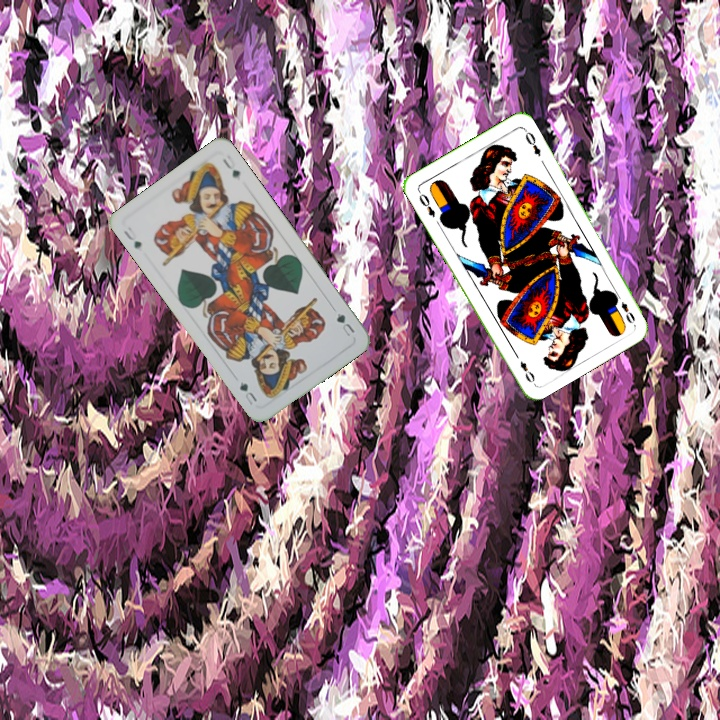EO: (611, 289, 638, 326), (414, 187, 438, 220)
GU: (329, 304, 357, 339), (120, 223, 144, 252)
